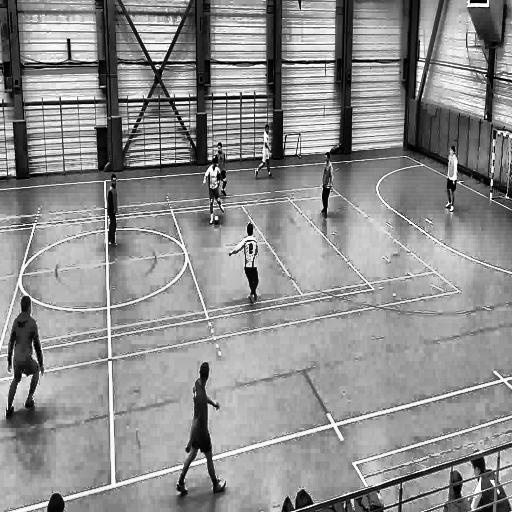ball: (212, 214, 220, 227)
player: (176, 358, 226, 500), (4, 294, 46, 421), (228, 222, 259, 306), (202, 157, 227, 225), (442, 143, 459, 216), (254, 122, 274, 180), (106, 171, 120, 250), (319, 151, 334, 220), (213, 140, 227, 198)
